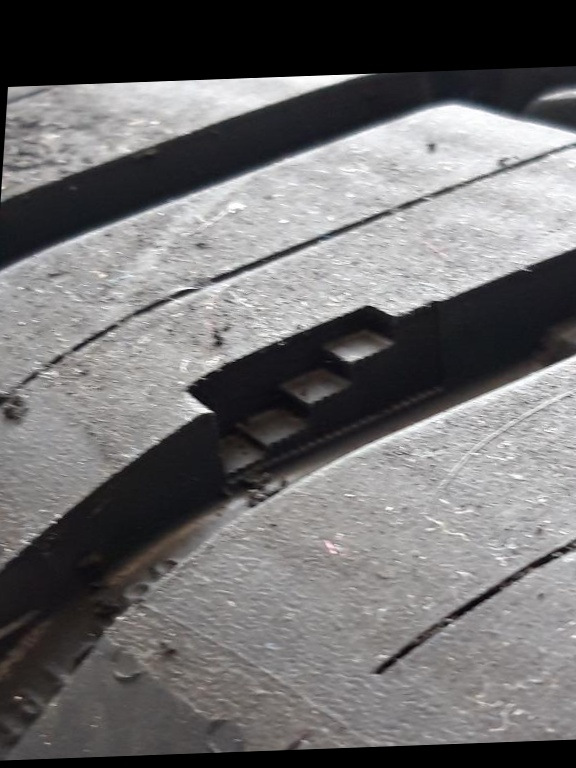temoin:95: (165, 285, 456, 507)
